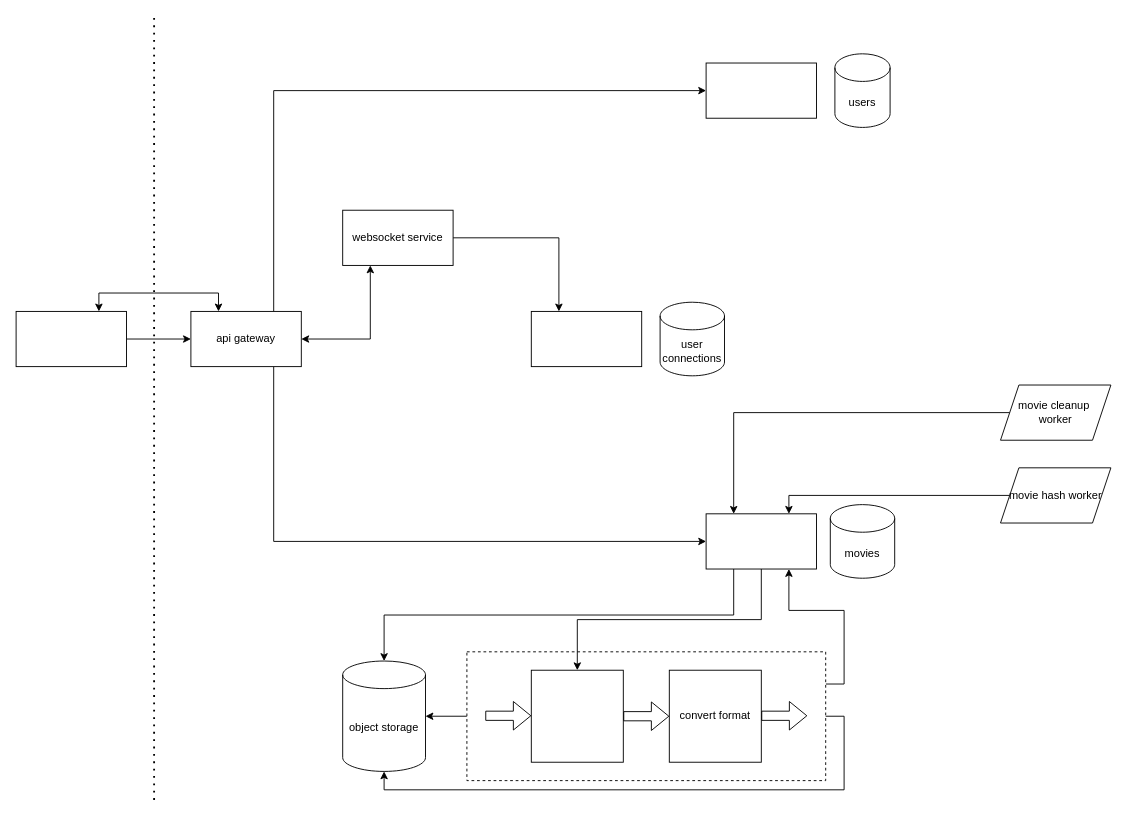
Some shapes in this 1127 by 817 pixel diagram are drawn without their labels. Each missing label, with the centre of its shape:
chunk movies: the point at 576,715
client app: the point at 70,338
connection mapper: the point at 586,338
movies service: the point at 760,541
users service: the point at 760,90
